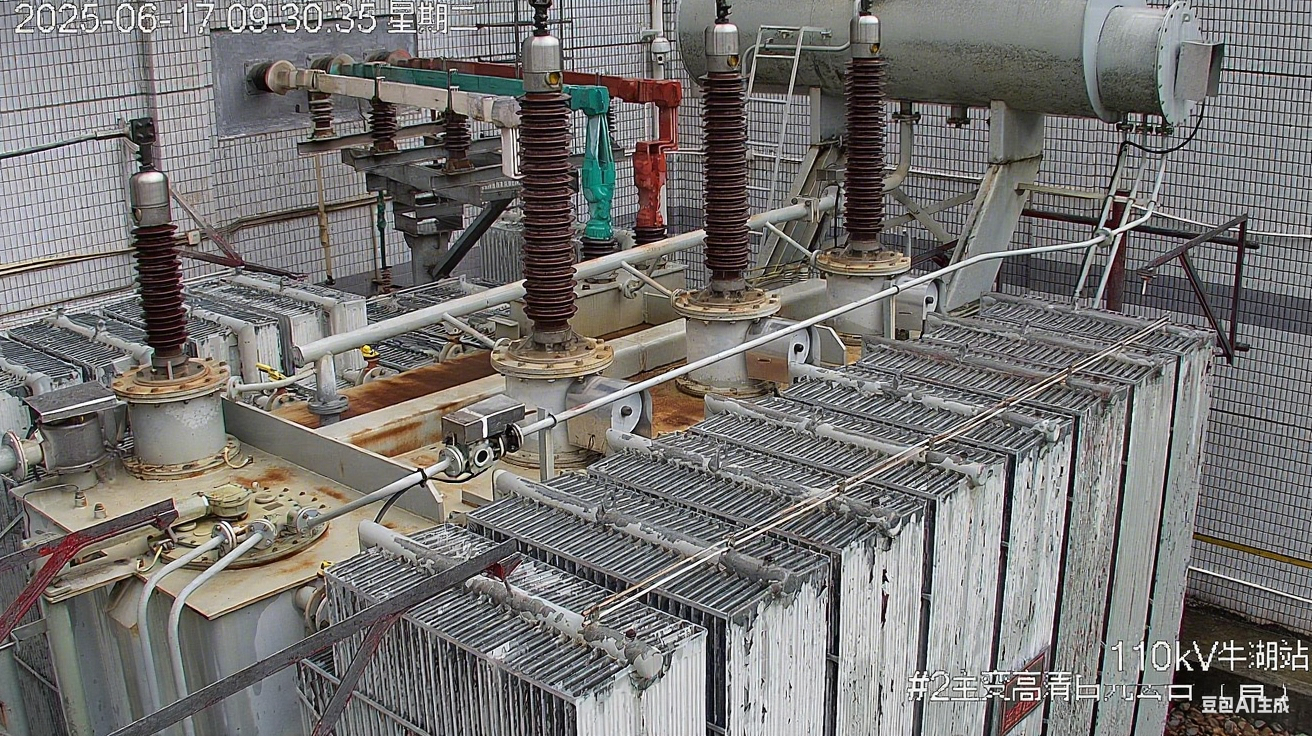HTX: (268, 247, 877, 494), (72, 354, 401, 597), (1102, 186, 1132, 313), (622, 627, 638, 643)
